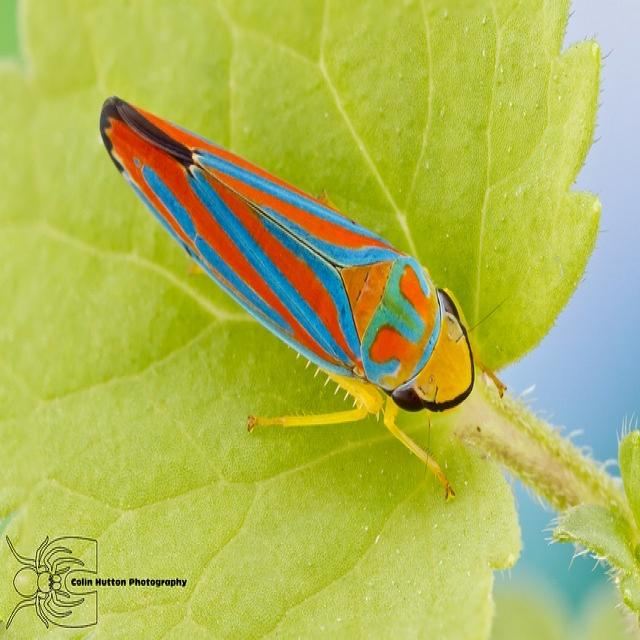Yechan: (66, 76, 520, 516)
